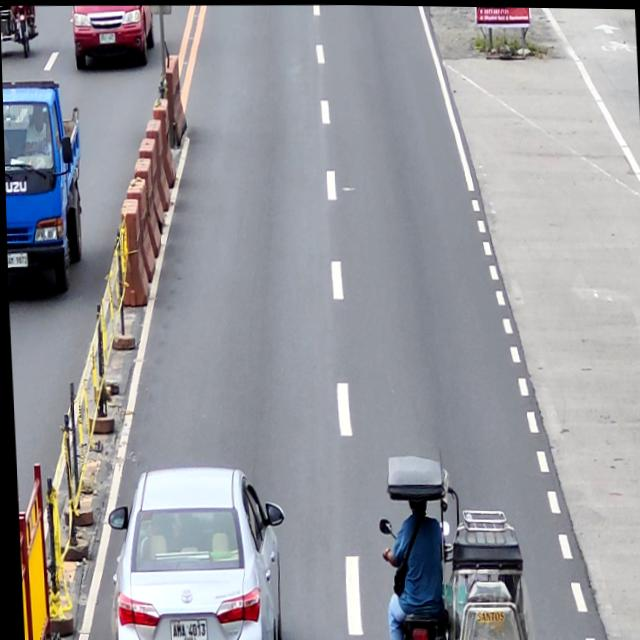Car: (102, 463, 285, 640)
License-Plate: (163, 617, 204, 640)
Tricycle: (373, 450, 530, 640)
